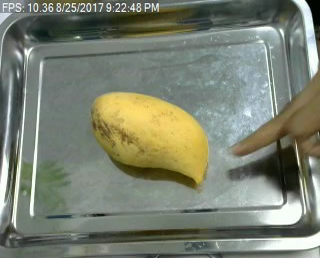Mango: (90, 91, 209, 185)
